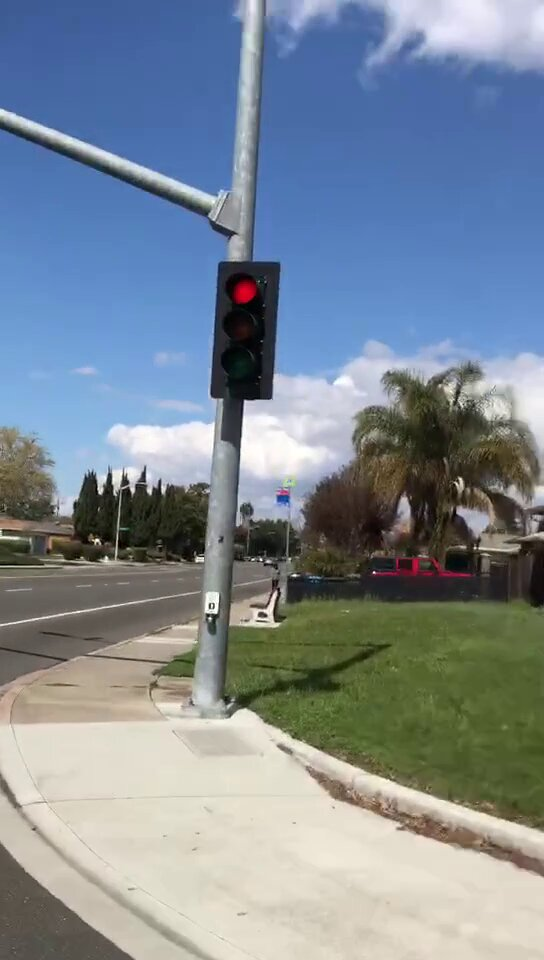red_light: (219, 263, 272, 393)
